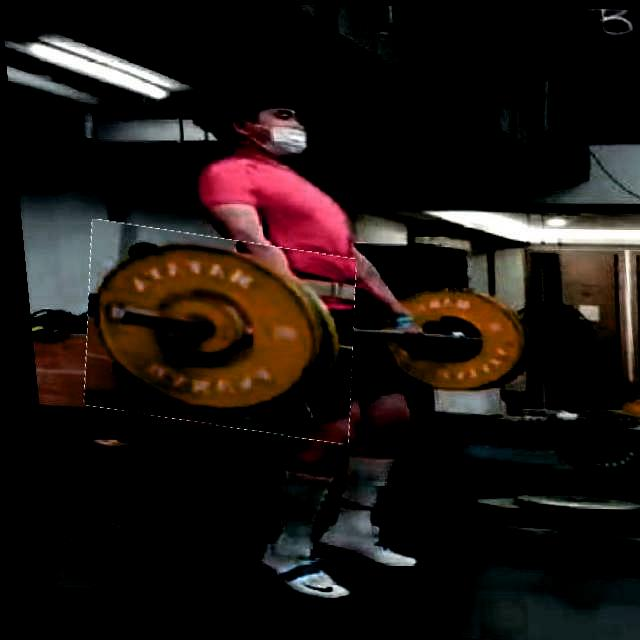barbell: (69, 227, 359, 435)
